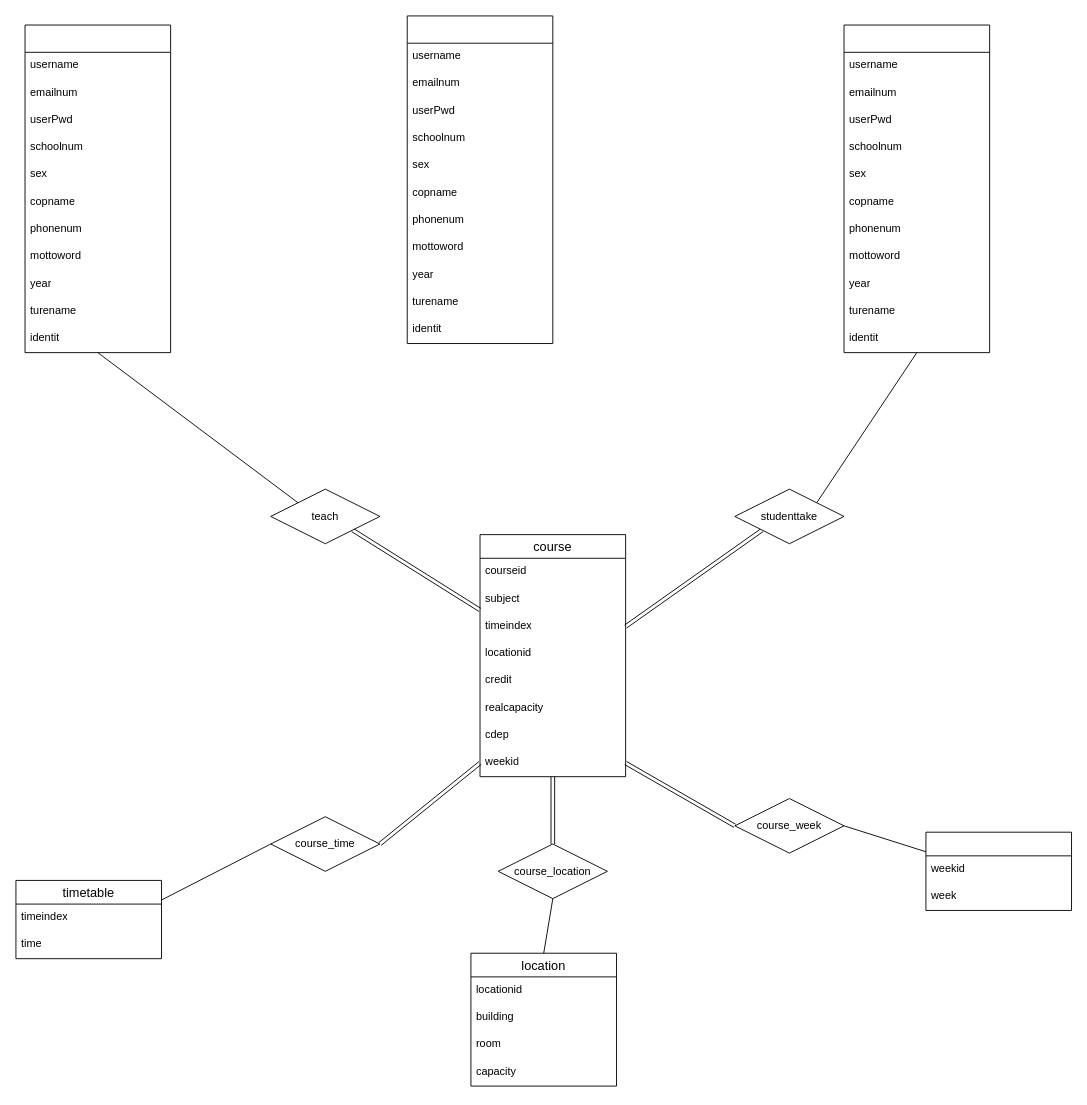
Image size: 1087x1105. Some labels were removed from this diagram. Here are the shapes that lost their labels. From the top down, the box of each, then its label:
(24, 24, 171, 353): teacher
(406, 15, 553, 344): admin
(843, 24, 990, 353): account(student)
(925, 831, 1072, 910): weektable
